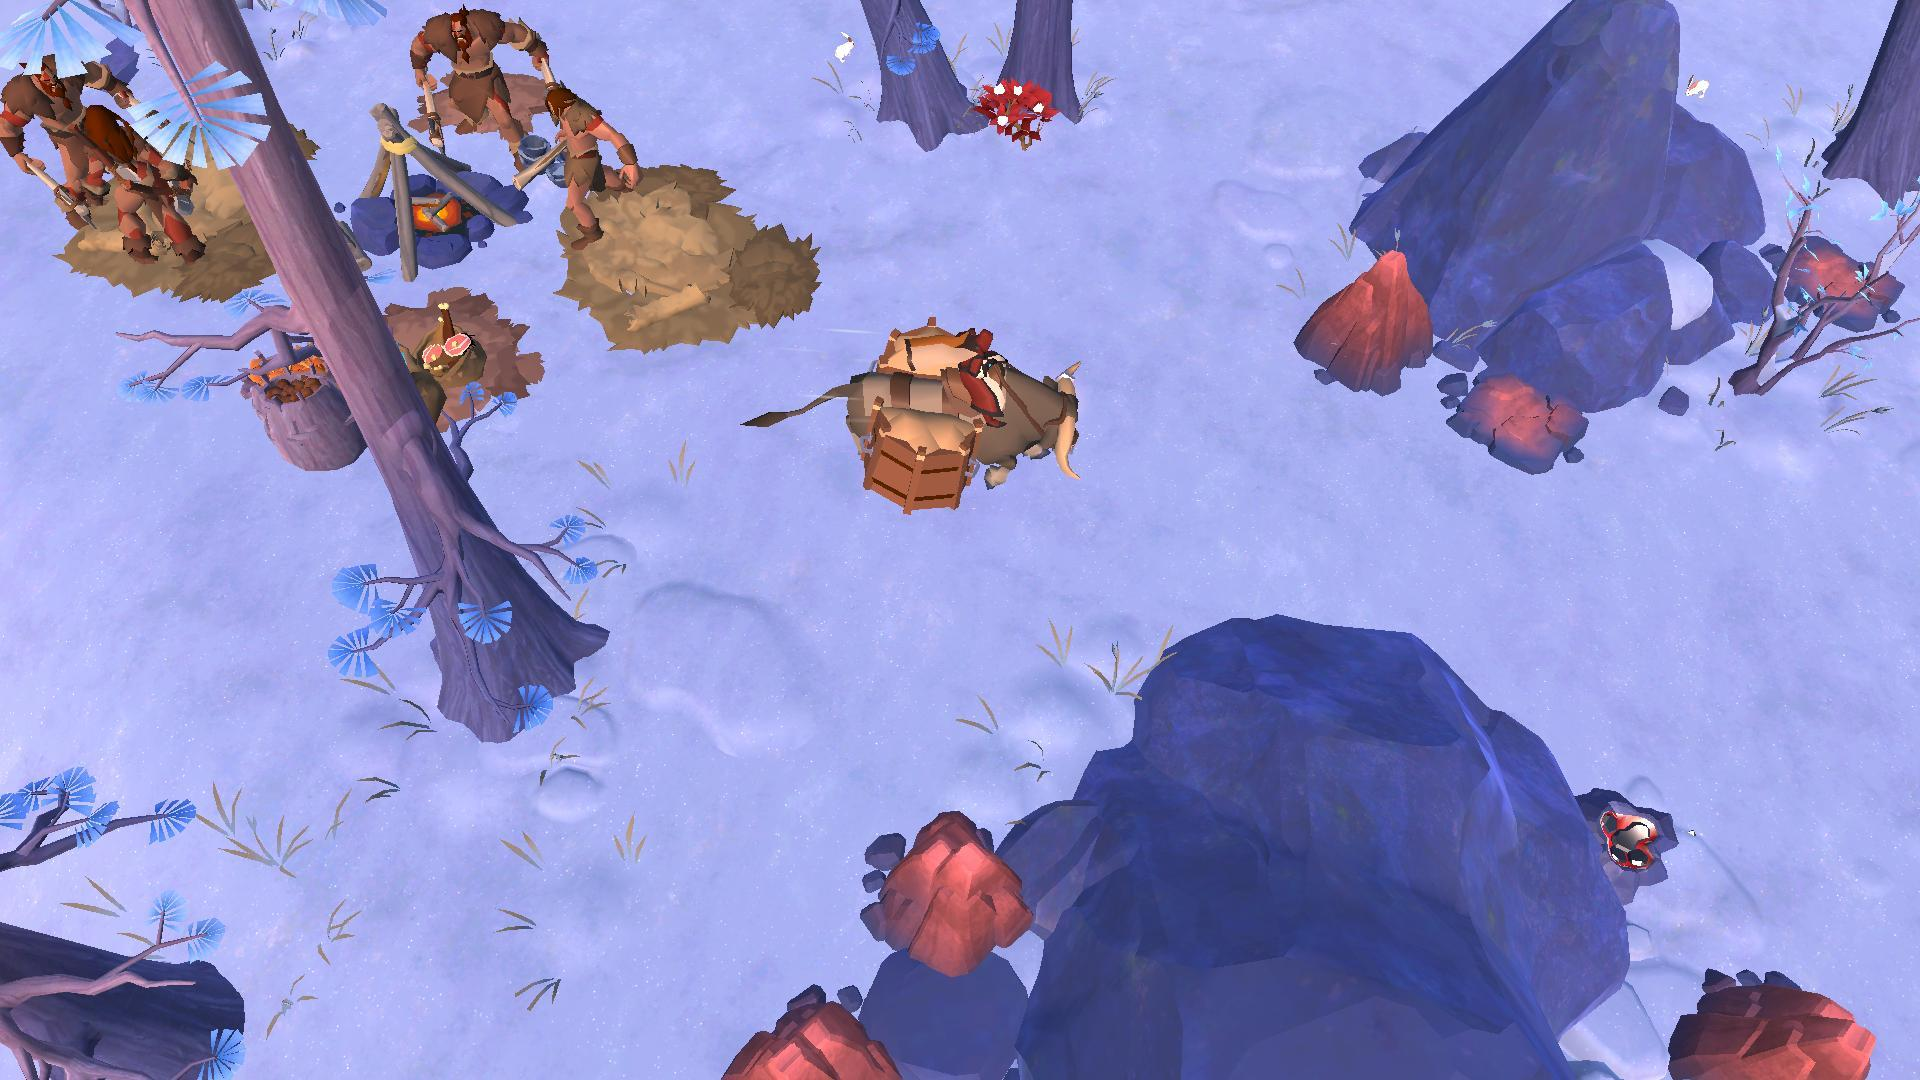enemy_factionKeeper: (0, 46, 154, 207), (525, 92, 650, 256), (84, 112, 202, 266), (413, 1, 546, 131)
fiber_t5: (976, 78, 1063, 149)
rock_t5: (858, 793, 1030, 975), (1283, 252, 1441, 401), (1665, 972, 1878, 1080), (715, 992, 889, 1080)
